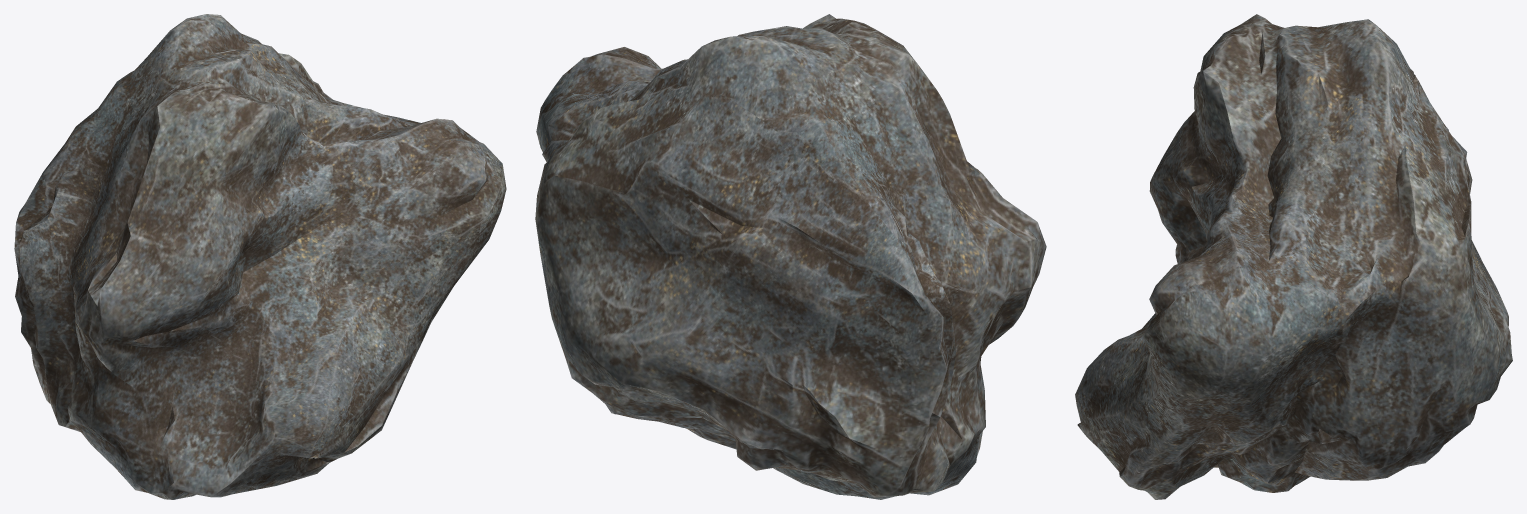
The model's file is Rock_1.fbx.
The picture shows the model from 3 angles, left to right: view 1: azimuth 30°, elevation 25°; view 2: azimuth 150°, elevation 25°; view 3: azimuth 270°, elevation 25°; orthographic projection. The views are drawn at different scales.
Visible parts, largest first — view 1: Rock_1_Baked; view 2: Rock_1_Baked; view 3: Rock_1_Baked.
Part boxes in pixels (x1,y1,x2,y2): Rock_1_Baked: (14,14,506,499); Rock_1_Baked: (535,14,1046,499); Rock_1_Baked: (1075,14,1512,499).
Size of the model in its own units: 2 by 1.57 by 1.86.
1 material, 1 textured.
